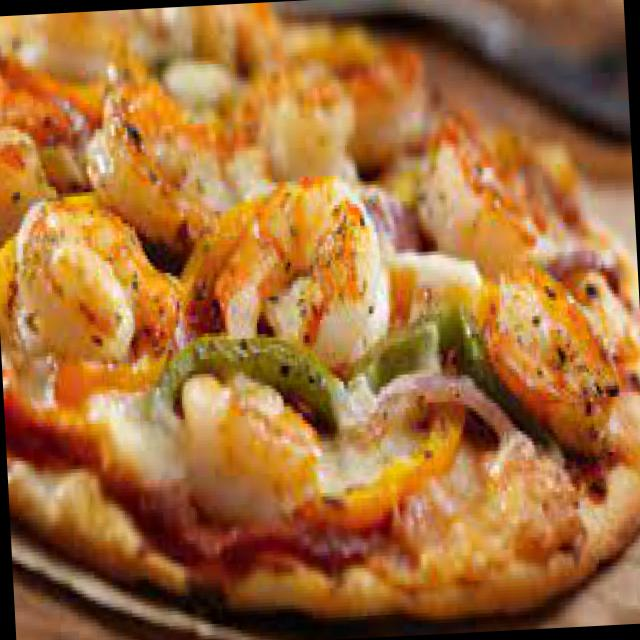camarao: (170, 171, 382, 372), (12, 200, 174, 384), (479, 263, 621, 434), (181, 372, 322, 527)
pizza: (0, 0, 639, 639)
